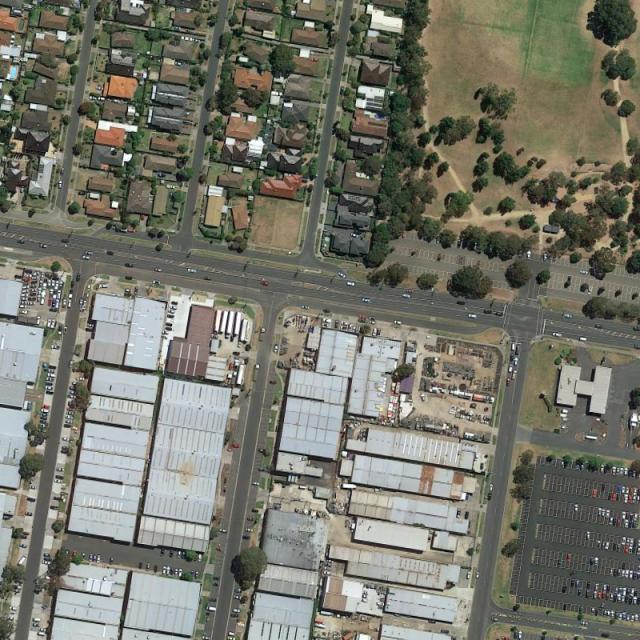vehicle: (18, 554, 27, 565), (494, 311, 504, 318), (456, 507, 462, 518), (124, 262, 134, 268), (206, 606, 216, 612), (244, 527, 254, 533), (552, 332, 562, 338), (233, 607, 241, 614), (338, 271, 346, 278), (50, 318, 55, 329), (515, 344, 520, 355), (242, 534, 251, 540), (361, 297, 370, 303), (512, 370, 518, 379), (578, 336, 587, 342), (187, 268, 197, 273), (46, 318, 51, 328), (152, 280, 162, 285), (65, 414, 75, 419), (44, 557, 54, 562), (42, 561, 52, 566), (31, 617, 41, 622), (97, 554, 102, 564), (347, 281, 357, 286), (621, 536, 626, 546), (634, 586, 639, 596), (610, 609, 615, 619), (634, 614, 639, 624), (32, 271, 40, 277), (62, 436, 70, 442), (234, 594, 242, 600), (234, 587, 242, 593), (257, 447, 265, 453), (302, 304, 310, 310), (394, 320, 402, 326), (483, 308, 491, 314), (616, 518, 622, 526), (60, 167, 65, 176), (39, 244, 48, 249), (29, 288, 38, 293), (40, 296, 45, 305), (41, 288, 46, 297), (59, 281, 64, 290), (49, 289, 54, 298), (76, 273, 81, 282), (166, 314, 175, 319), (55, 474, 64, 479), (54, 478, 63, 483), (27, 497, 36, 502), (18, 543, 27, 548), (38, 628, 47, 633), (138, 561, 143, 570), (160, 547, 165, 556), (177, 550, 182, 559), (194, 571, 199, 580), (230, 613, 239, 618), (334, 320, 339, 329), (322, 318, 331, 323), (543, 253, 548, 262), (514, 357, 519, 366), (629, 486, 634, 495), (617, 485, 622, 494), (623, 494, 628, 503), (621, 511, 626, 520), (624, 519, 629, 528), (593, 590, 598, 599), (601, 591, 606, 600), (632, 597, 637, 606), (630, 614, 635, 623), (580, 270, 589, 275), (19, 310, 30, 314), (633, 570, 637, 581), (228, 631, 235, 637), (220, 528, 227, 534), (372, 328, 378, 335), (174, 61, 182, 66), (58, 180, 62, 190), (82, 254, 90, 259), (106, 250, 114, 255), (203, 276, 211, 281), (23, 273, 31, 278), (29, 297, 37, 302), (40, 271, 45, 279), (47, 278, 51, 288), (57, 290, 62, 298), (62, 299, 66, 309), (78, 298, 82, 308), (51, 345, 59, 350), (46, 377, 54, 382), (69, 359, 74, 367), (66, 394, 76, 398), (42, 408, 50, 413), (27, 402, 32, 410), (64, 423, 72, 428), (60, 450, 70, 454), (55, 468, 65, 472), (22, 530, 30, 535), (19, 535, 27, 540), (10, 606, 18, 611), (32, 622, 40, 627), (72, 550, 77, 558), (88, 554, 93, 562), (178, 568, 182, 578), (202, 635, 210, 640), (247, 517, 255, 522), (258, 467, 268, 471), (274, 343, 278, 353), (261, 280, 269, 285), (322, 308, 330, 313), (526, 251, 531, 259), (511, 342, 515, 352), (616, 466, 620, 476), (624, 467, 628, 477), (634, 486, 638, 496), (621, 486, 626, 494), (601, 483, 606, 491), (632, 522, 637, 530), (566, 554, 571, 562), (628, 546, 633, 554), (594, 582, 598, 592), (602, 583, 607, 591), (605, 593, 610, 601), (614, 586, 619, 594), (626, 587, 631, 595), (490, 617, 498, 622), (599, 602, 604, 610), (618, 611, 622, 621), (27, 302, 36, 306), (37, 316, 41, 325), (38, 288, 42, 297), (51, 280, 55, 289), (55, 279, 59, 288), (56, 299, 60, 308), (68, 299, 72, 308), (70, 280, 74, 289), (83, 301, 87, 310), (164, 327, 173, 331), (48, 370, 57, 374), (44, 386, 53, 390), (45, 382, 54, 386), (69, 390, 78, 394), (66, 411, 75, 415), (6, 617, 15, 621), (37, 632, 46, 636), (146, 562, 150, 571), (170, 549, 174, 558), (166, 566, 170, 575), (174, 568, 178, 577), (227, 636, 236, 640), (402, 294, 411, 298), (468, 314, 477, 318), (457, 301, 466, 305), (510, 353, 514, 362), (509, 364, 513, 373), (594, 324, 603, 328), (612, 466, 616, 475), (620, 467, 624, 476), (592, 489, 596, 498), (606, 509, 610, 518), (630, 513, 634, 522), (626, 537, 630, 546), (590, 557, 594, 566), (617, 568, 621, 577), (570, 578, 574, 587), (578, 588, 582, 597), (586, 581, 590, 590), (622, 588, 626, 597), (630, 587, 634, 596), (518, 631, 522, 640), (626, 613, 630, 622), (98, 97, 105, 102), (31, 276, 38, 281), (29, 485, 36, 490), (489, 484, 494, 491), (621, 570, 626, 577), (597, 591, 602, 598), (581, 621, 588, 626), (590, 608, 595, 615), (95, 86, 103, 90), (90, 96, 98, 100), (154, 268, 162, 272), (29, 293, 37, 297), (30, 284, 38, 288), (39, 279, 43, 287), (87, 284, 91, 292), (170, 306, 178, 310), (167, 309, 175, 313), (48, 374, 56, 378), (40, 416, 48, 420), (39, 420, 47, 424), (61, 446, 69, 450), (93, 554, 97, 562), (110, 557, 114, 565), (154, 565, 158, 573), (198, 554, 202, 562), (162, 566, 166, 574), (252, 482, 260, 486), (350, 234, 358, 238), (402, 230, 406, 238), (506, 378, 510, 386), (565, 314, 573, 318), (488, 492, 492, 500), (466, 571, 470, 579), (628, 495, 632, 503), (602, 509, 606, 517), (609, 517, 613, 525), (634, 513, 638, 521), (586, 531, 590, 539), (597, 541, 601, 549), (606, 542, 610, 550), (630, 538, 634, 546), (624, 546, 628, 554), (594, 558, 598, 566), (609, 567, 613, 575), (613, 568, 617, 576), (629, 571, 633, 579), (562, 585, 566, 593), (586, 590, 590, 598), (610, 594, 614, 602), (618, 586, 622, 594), (617, 594, 621, 602), (629, 596, 633, 604), (606, 610, 610, 618), (622, 612, 626, 620), (24, 277, 30, 282), (43, 278, 46, 288), (66, 408, 76, 411), (20, 186, 24, 193), (17, 239, 24, 243), (85, 251, 92, 255), (23, 281, 30, 285), (22, 285, 29, 289), (22, 289, 29, 293), (22, 293, 29, 297), (21, 297, 28, 301), (20, 301, 27, 305), (20, 305, 27, 309), (37, 295, 41, 302), (166, 322, 173, 326), (41, 413, 48, 417), (66, 419, 73, 423), (25, 512, 32, 516), (43, 553, 50, 557), (81, 553, 85, 560), (476, 571, 480, 578), (574, 504, 578, 511), (608, 492, 612, 499), (616, 494, 620, 501), (632, 495, 636, 502), (598, 508, 602, 515), (601, 542, 605, 549), (52, 497, 61, 500), (601, 464, 604, 473), (70, 288, 73, 296), (42, 405, 50, 408), (561, 459, 564, 467), (626, 486, 629, 494), (613, 518, 616, 526), (626, 570, 629, 578), (603, 610, 606, 618), (615, 610, 618, 618), (52, 300, 55, 307), (72, 382, 79, 385), (613, 493, 616, 500), (637, 496, 640, 503), (558, 560, 561, 567), (638, 539, 640, 547)
